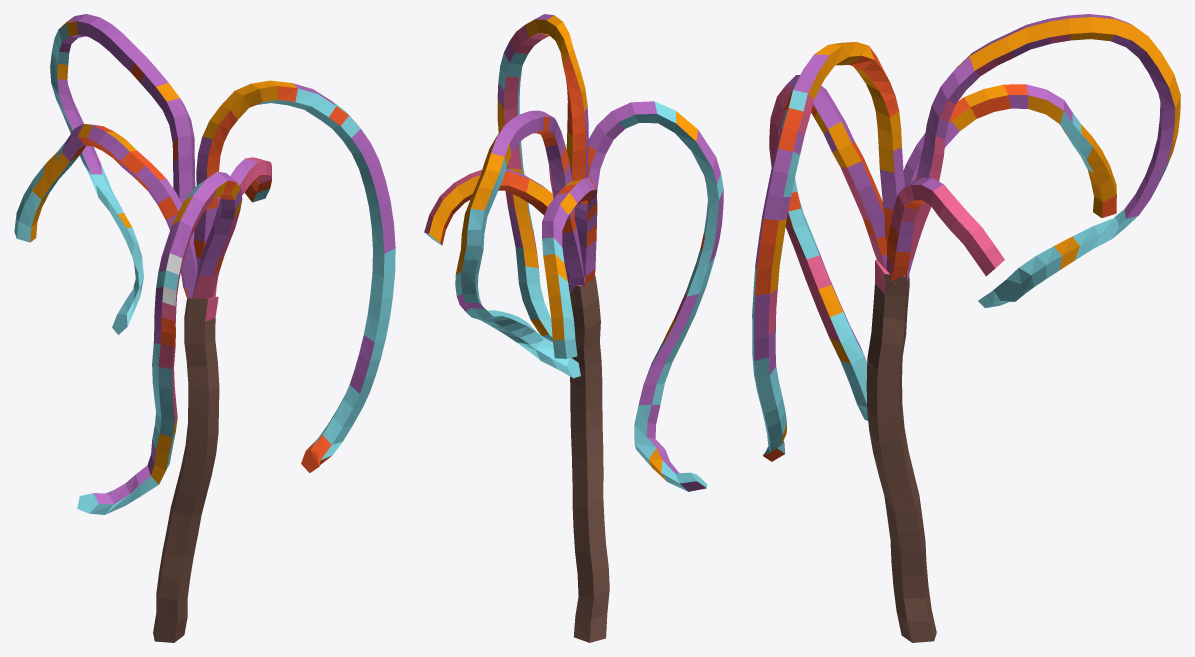
Rendered from model-triangulated.obj.
3 renders of one model, left to right at view 1: azimuth 30°, elevation 25°; view 2: azimuth 150°, elevation 25°; view 3: azimuth 270°, elevation 25°, orthographic. The views are drawn at different scales.
Visible parts, largest first — view 1: group412060410, group1498774236, group2066926425, group1204210808, group957645483, group911098375; view 2: group2066926425, group1498774236, group1204210808, group412060410, group957645483, group911098375; view 3: group1204210808, group412060410, group2066926425, group1498774236, group957645483, group911098375.
Boxes of the visible parts, x1,y1,x2,y2 form: group412060410: [193, 80, 395, 472]; group1498774236: [77, 171, 242, 514]; group2066926425: [153, 296, 219, 642]; group1204210808: [50, 14, 195, 334]; group957645483: [14, 124, 197, 298]; group911098375: [212, 157, 271, 296]; group2066926425: [568, 275, 609, 642]; group1498774236: [588, 101, 723, 491]; group1204210808: [455, 110, 584, 378]; group412060410: [497, 14, 588, 343]; group957645483: [542, 177, 597, 358]; group911098375: [424, 168, 569, 283]; group1204210808: [894, 14, 1180, 308]; group412060410: [752, 42, 904, 461]; group2066926425: [866, 260, 936, 642]; group1498774236: [769, 75, 887, 420]; group957645483: [903, 84, 1116, 217]; group911098375: [886, 178, 1004, 280].
Size of the model in its own units: 1.51 by 3.13 by 1.93.
